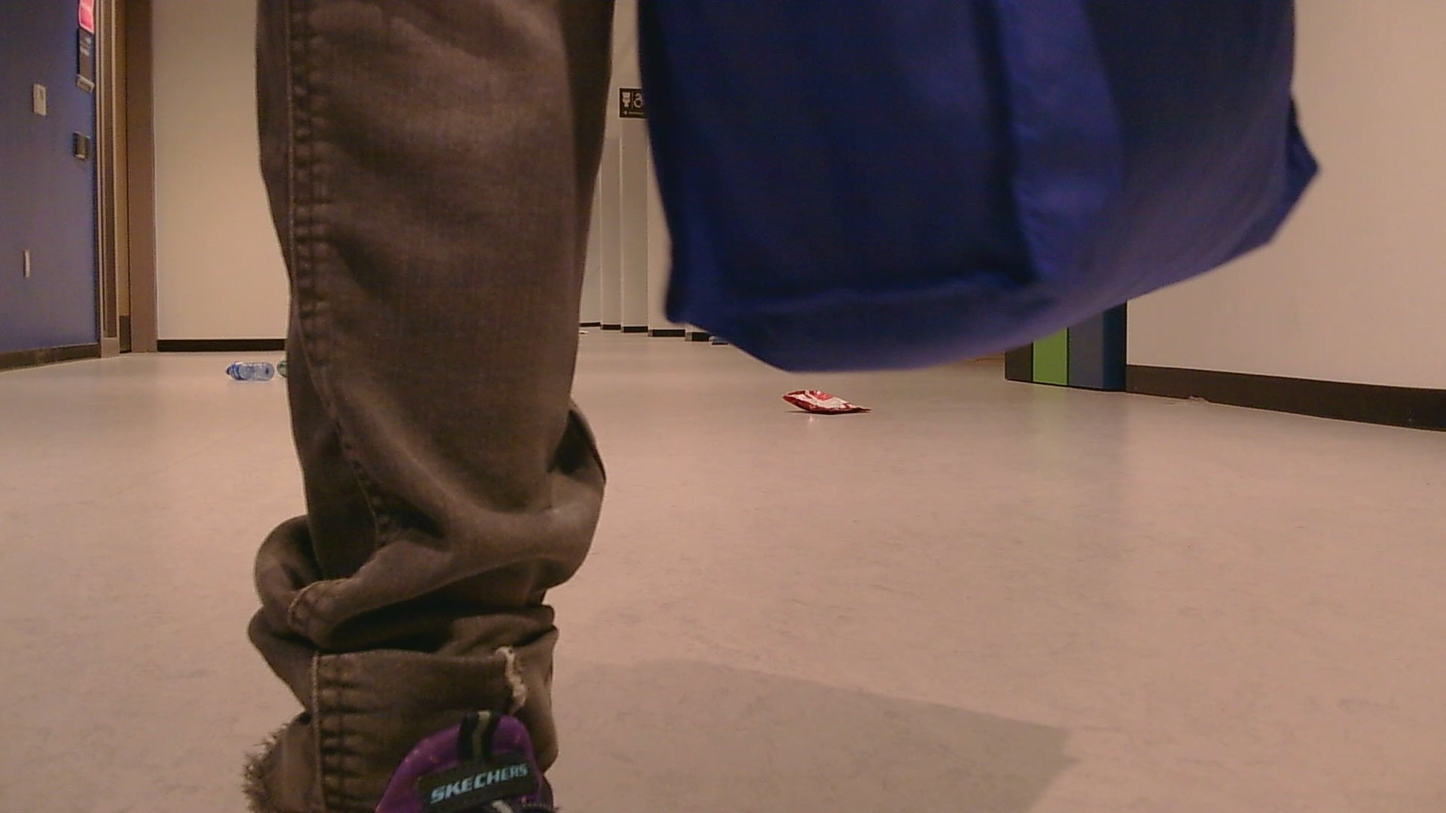carton: (782, 382, 877, 435), (197, 355, 279, 393)
